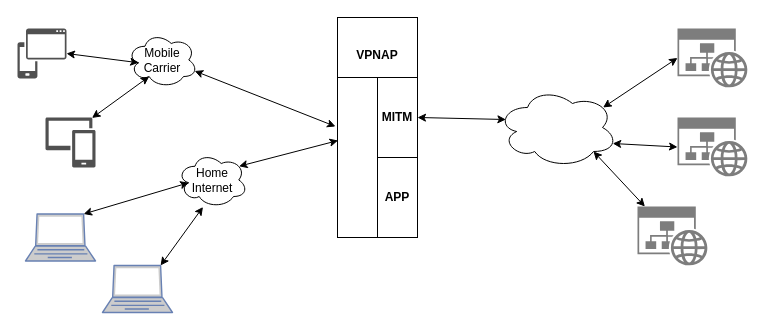
The diagram is 764 pixels wide and 331 high, and some of its shapes have lost their labels. Here are the shapes that lost their labels. From the top down, the centre of each, then its label:
[557,127]: Public Internet
[357,157]: VPN
